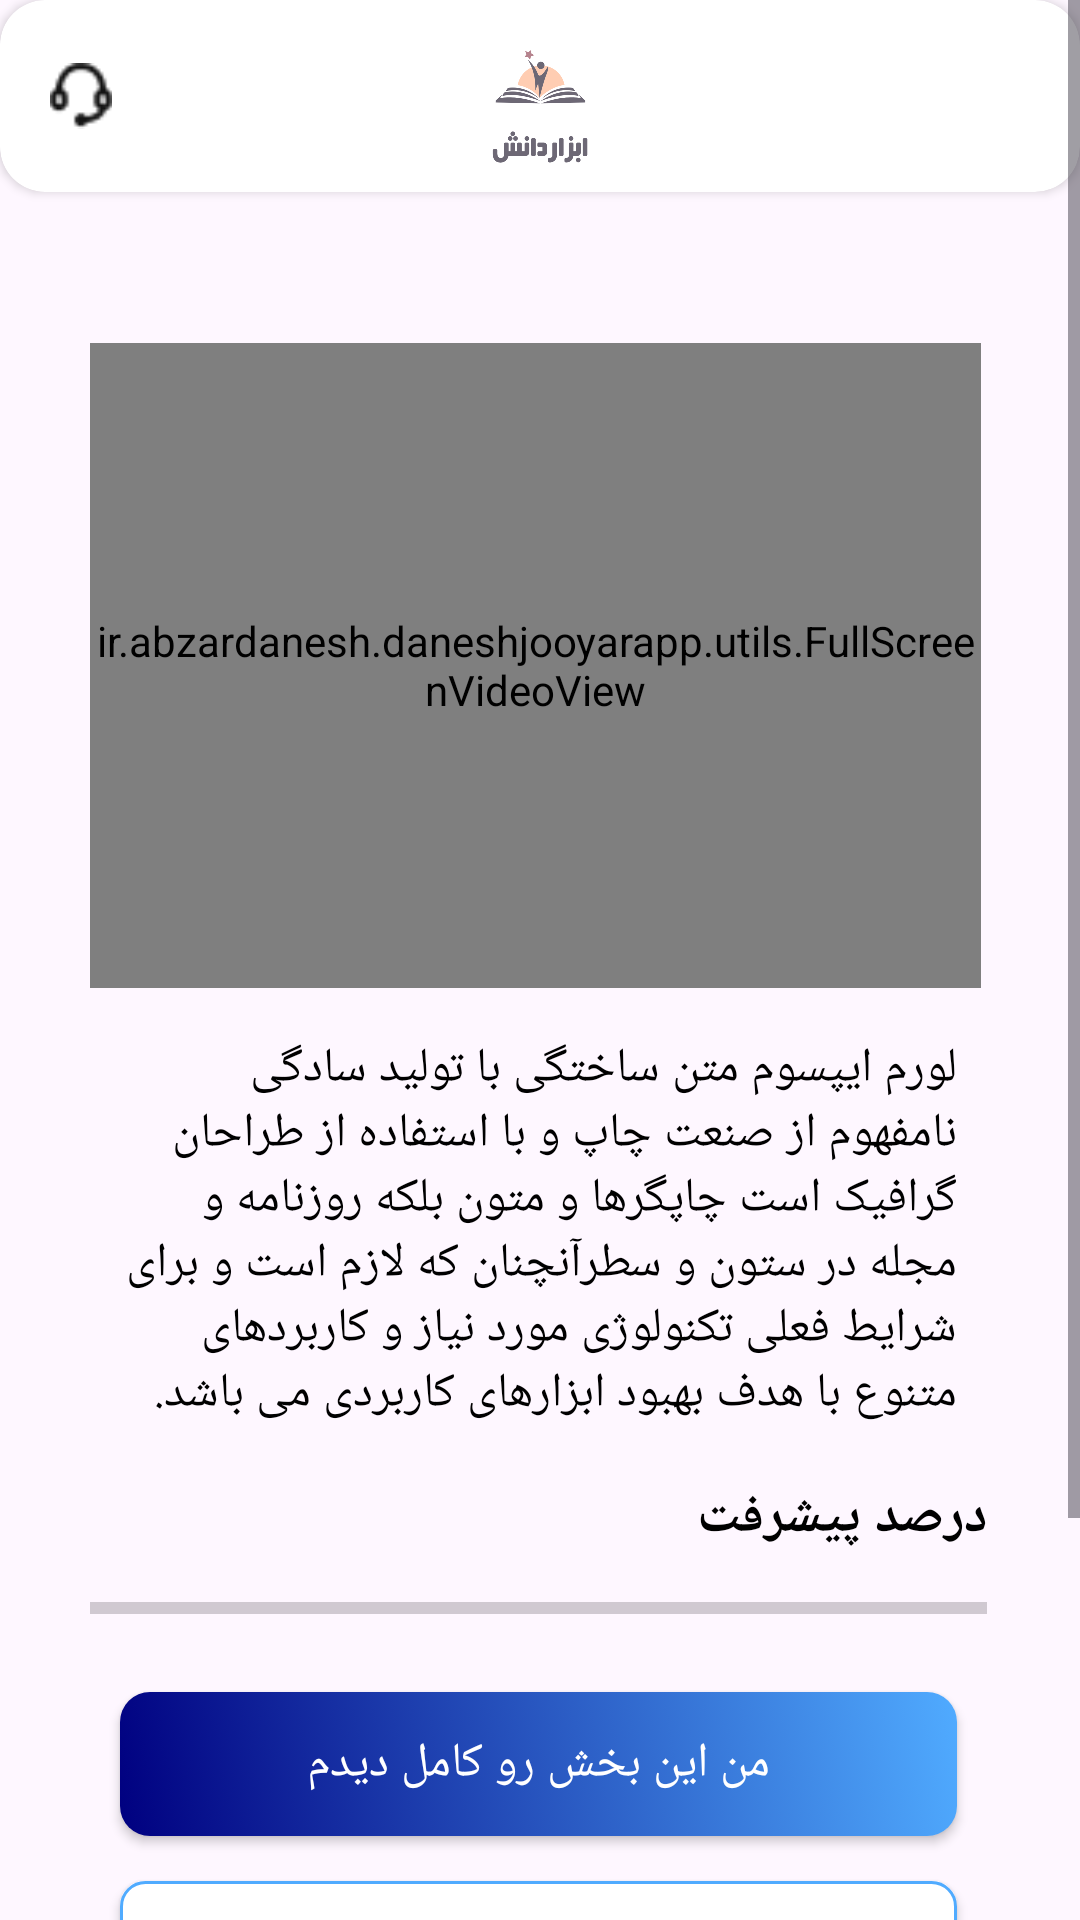

Named icons in this screenshot (1080w x 1920h) and their bounding boxes, Rect(x1, y1, x2, y2):
support: Rect(50, 63, 112, 127)
